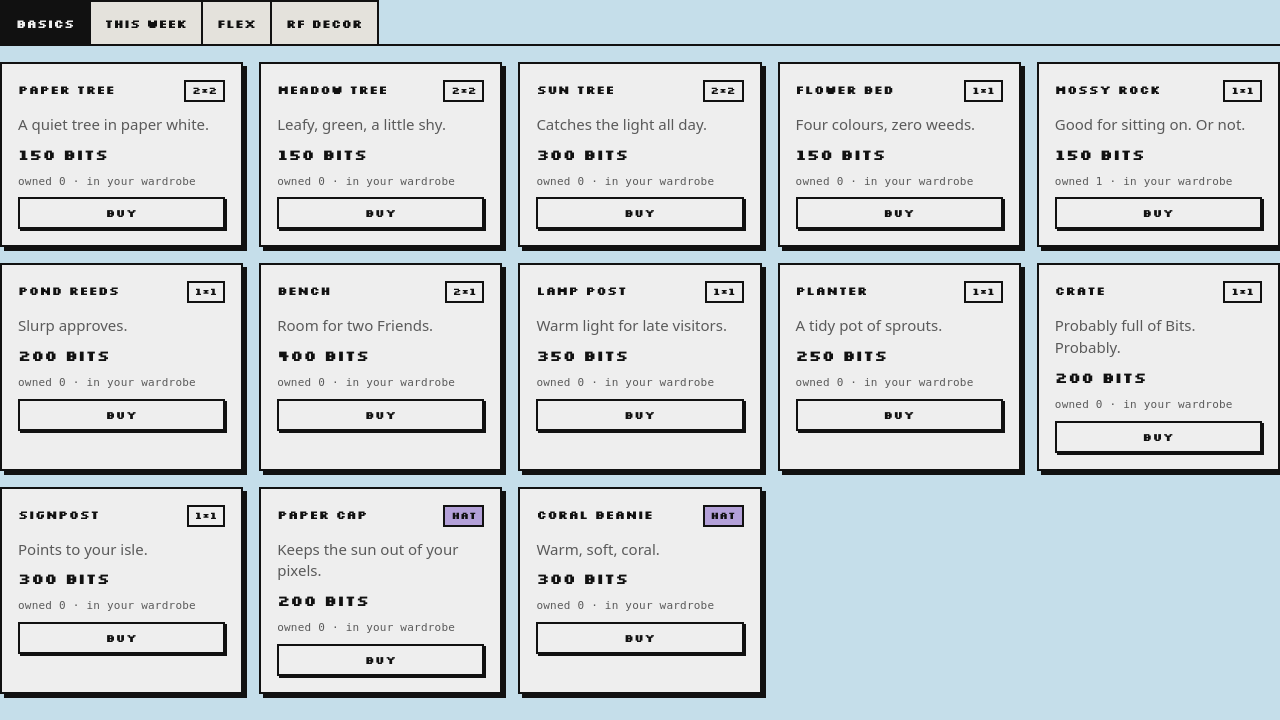
it: Catalog › buys a Bits item through the confirm sheet
Expected: the text "owned 1 · in your wardrobe" is shown, 1055,174 -> 1262,189
Click the button with aria-label "buy Mossy rock for 150 bits" at (1158, 213), box 1055,197 -> 1262,229
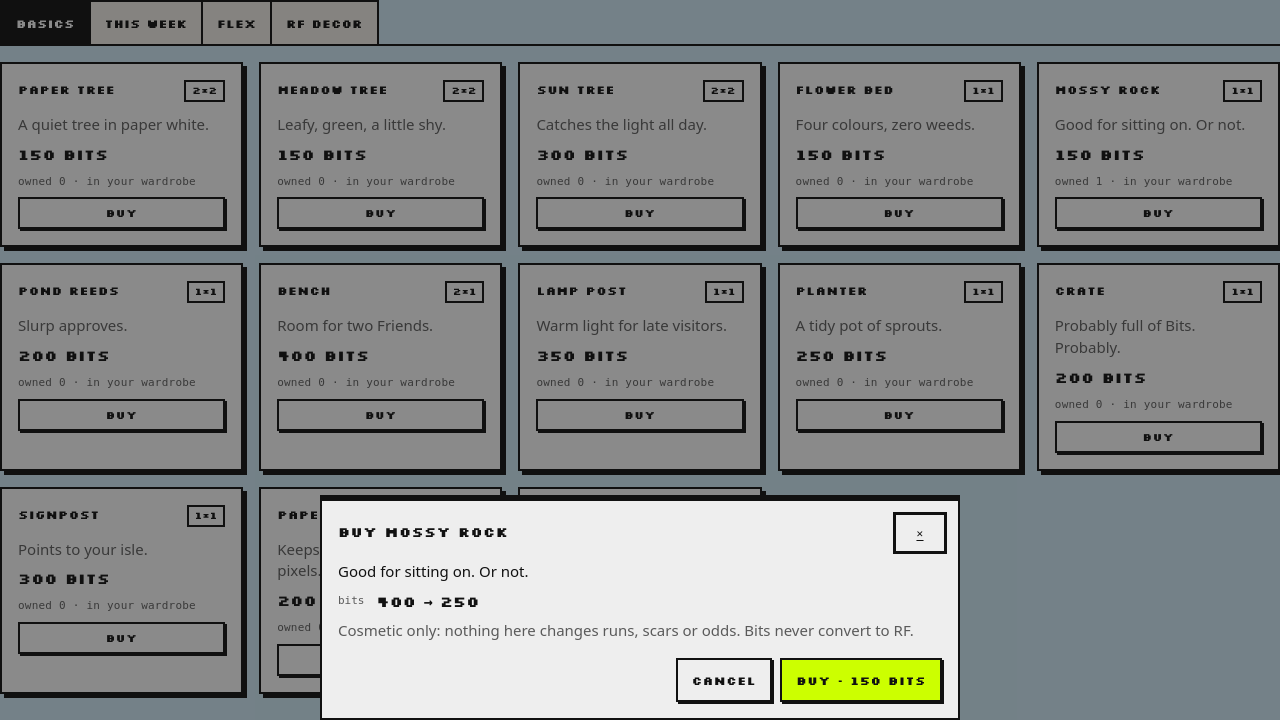
Result: the text "400 → 250" is shown at 376,592 -> 479,610
Click the button "buy · 150 bits" at (861, 680), box 780,658 -> 942,702
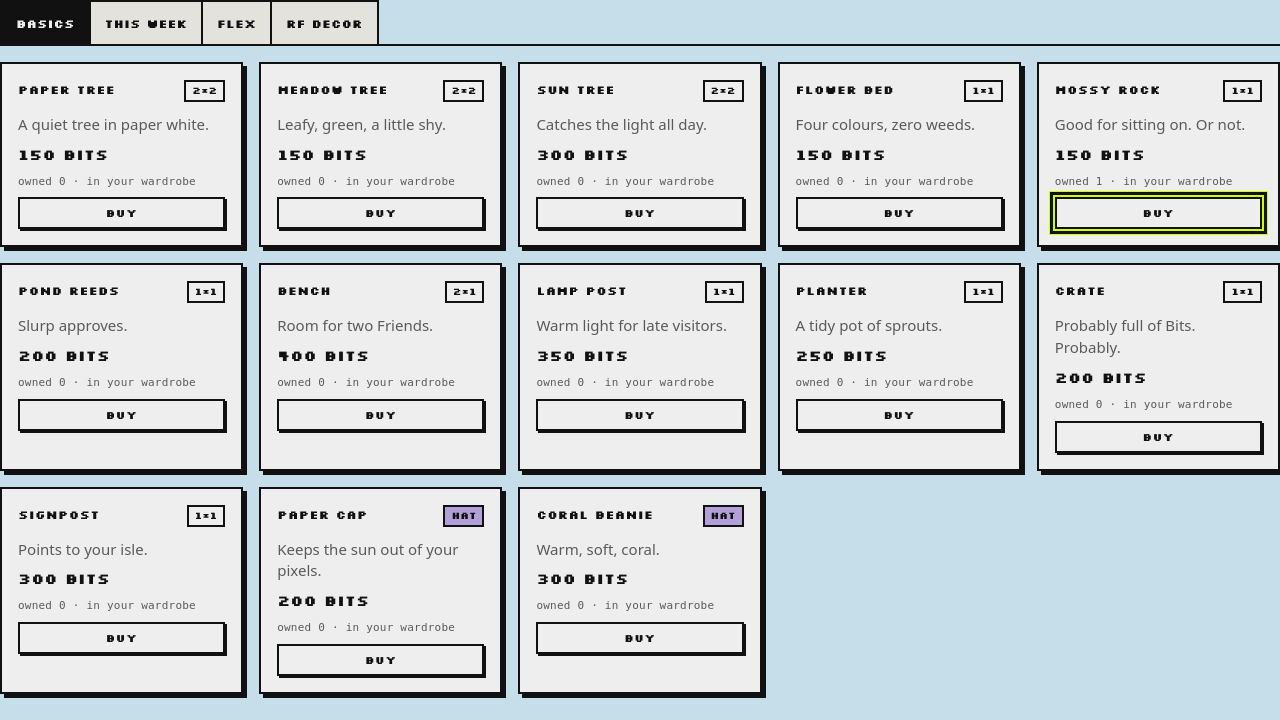
Result: the dialog is gone
